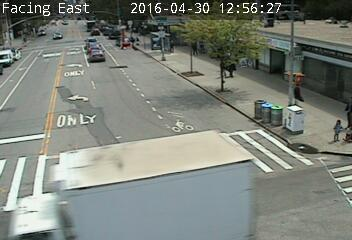neg: (163, 71, 178, 90), (59, 73, 71, 89), (310, 169, 321, 184), (283, 161, 293, 175), (89, 71, 99, 84), (127, 54, 137, 66), (235, 156, 245, 168), (276, 124, 285, 135), (113, 65, 121, 76), (170, 131, 178, 142), (135, 131, 142, 141), (89, 48, 96, 57), (184, 156, 191, 165), (158, 106, 164, 114), (256, 111, 262, 119), (76, 117, 82, 124), (120, 37, 124, 43), (194, 118, 197, 122)
pos: (285, 81, 309, 113), (334, 98, 351, 137), (328, 117, 348, 144), (223, 59, 239, 80), (214, 58, 230, 79), (164, 35, 177, 54), (185, 39, 198, 56), (19, 34, 27, 44)
